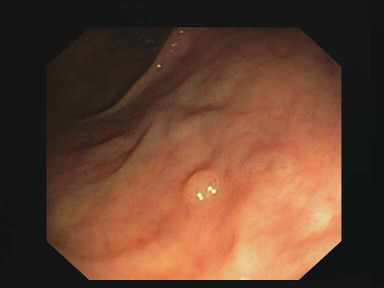polyp: (173, 157, 232, 210)
